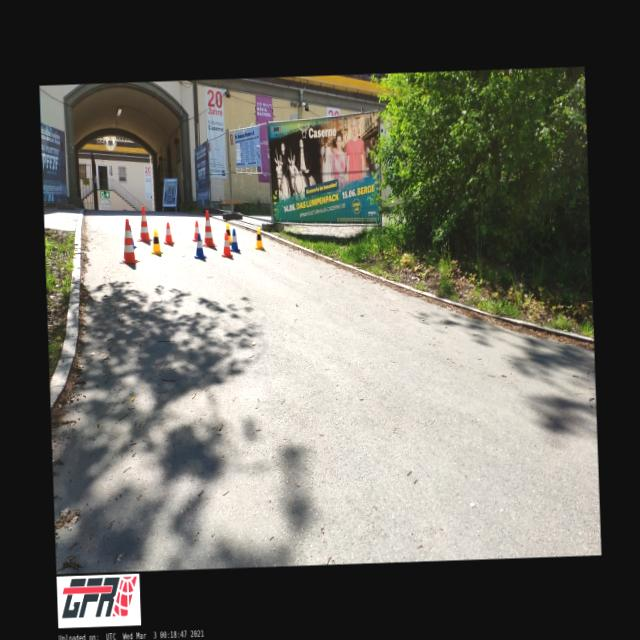blue_cone: (193, 233, 206, 259), (229, 228, 241, 252), (129, 224, 136, 248)
large_orange_cone: (118, 218, 139, 263), (200, 210, 216, 247), (136, 206, 152, 242)
orange_cone: (220, 232, 232, 257), (163, 222, 174, 244), (192, 220, 202, 241)
yellow_cone: (150, 229, 162, 254), (253, 227, 264, 249), (226, 222, 231, 245)
